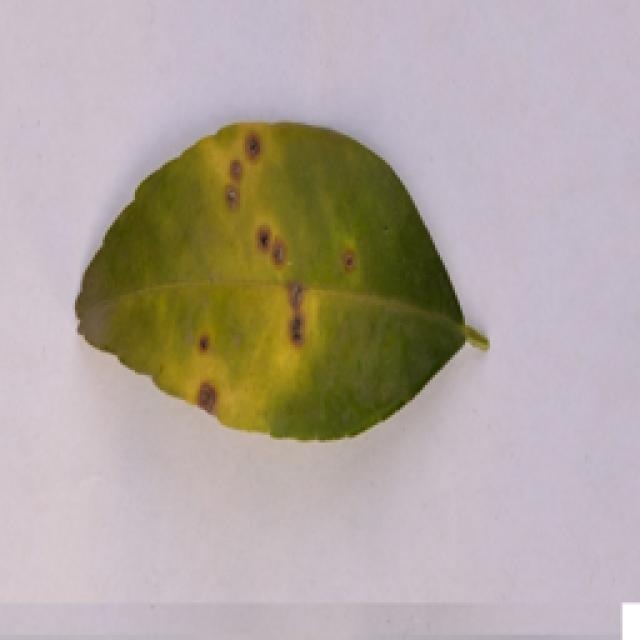canker: (75, 122, 485, 435), (245, 212, 326, 354), (213, 128, 270, 213), (184, 329, 228, 416), (338, 224, 357, 289)
